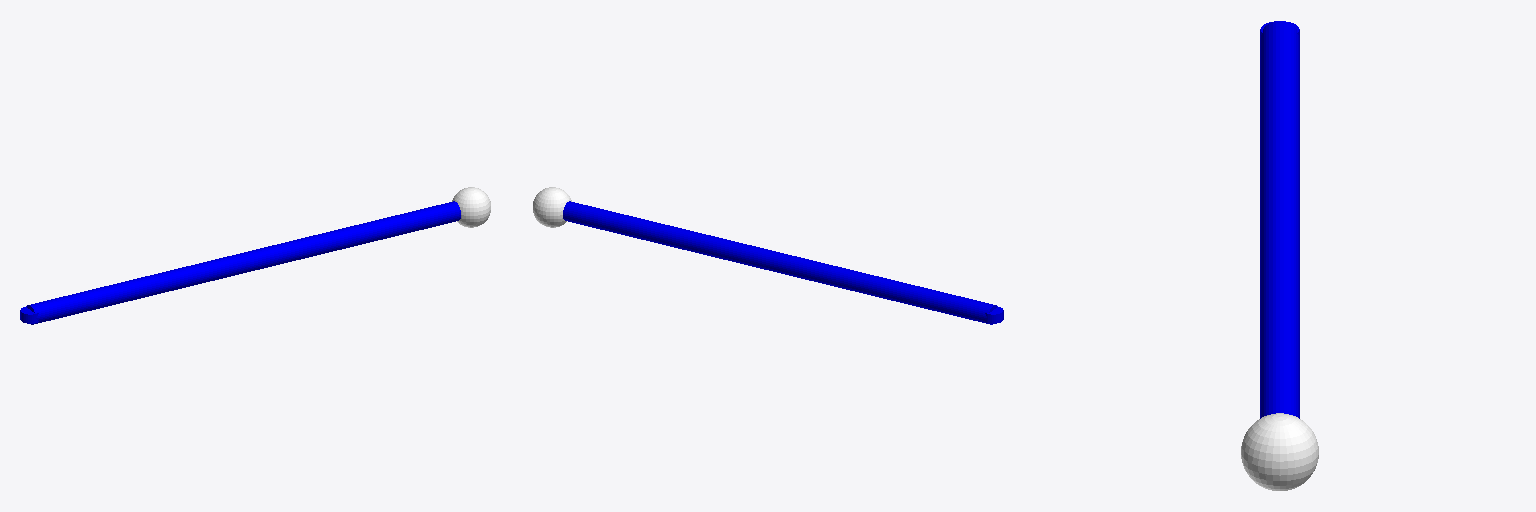
URDF robot description (planar_robot_2_link):
<?xml version="1.0" ?>
<robot name="planar_robot_2_link" version="1.0">
   <link name="world"/>
   <joint name="base_joint" type="fixed">
      <origin xyz="0.0 0.0 0.0" rpy="0.0 0.0 0.0"/>
      <parent link="world"/>
      <child link="base_link"/>
   </joint>
   <link name="base_link">
      <visual>
         <geometry>
            <cylinder radius="0.01" length="0.01"/>
         </geometry>
         <material name="blue">
            <color rgba="0.0 0.0 1.0 1.0"/>
         </material>
      </visual>
      <collision>
         <geometry>
            <cylinder radius="0.01" length="0.01"/>
         </geometry>
      </collision>
   </link>
   <joint name="joint_1" type="revolute">
      <origin xyz="0.0 0.0 0.0" rpy="0.0 0.0 0.0"/>
      <axis xyz="0.0 0.0 1.0"/>
      <parent link="base_link"/>
      <child link="link_1"/>
      <limit effort="320.0" lower="-2.97" upper="2.97" velocity="2.35619449019"/>
   </joint>
   <link name="link_1">
      <visual>
         <origin xyz="0.1 0.0 0.0" rpy="0.0 1.57079632679 0.0"/>
         <geometry>
            <cylinder radius="0.01" length="0.2"/>
         </geometry>
         <material name="blue">
            <color rgba="0.0 0.0 1.0 1.0"/>
         </material>
      </visual>
      <collision>
         <origin xyz="0.1 0.0 0.0" rpy="0.0 1.57079632679 0.0"/>
         <geometry>
            <cylinder radius="0.01" length="0.2"/>
         </geometry>
      </collision>
   </link>
   <joint name="joint_2" type="revolute">
      <origin xyz="0.2 0.0 0.0" rpy="0 0 0"/>
      <axis xyz="0.0 0.0 1.0"/>
      <parent link="link_1"/>
      <child link="link_2"/>
      <limit effort="320.0" lower="-2.6" upper="2.6" velocity="2.35619449019"/>
   </joint>
   <link name="link_2">
      <visual>
         <origin xyz="0.15 0.0 0.0" rpy="0.0 1.57079632679 0.0"/>
         <geometry>
            <cylinder radius="0.01" length="0.3"/>
         </geometry>
         <material name="blue">
            <color rgba="0.0 0.0 1.0 1.0"/>
         </material>
      </visual>
      <collision>
         <origin xyz="0.15 0.0 0.0" rpy="0.0 1.57079632679 0.0"/>
         <geometry>
            <cylinder radius="0.01" length="0.3"/>
         </geometry>
      </collision>
   </link>
   <joint name="joint_ee" type="fixed">
      <origin xyz="0.3 0.0 0.0" rpy="0 0 0"/>
      <axis xyz="1.0 0.0 0.0"/>
      <parent link="link_2"/>
      <child link="link_ee"/>
   </joint>
   <link name="link_ee">
      <visual>
         <origin xyz="0.0 0.0 0.0" rpy="0.0 0.0 0.0"/>
         <geometry>
            <sphere radius="0.02"/>
         </geometry>
         <material name="white">
            <color rgba="1.0 1.0 1.0 1.0"/>
         </material>
      </visual>
      <collision>
         <origin xyz="0.0 0.0 0.0" rpy="0.0 0.0 0.0"/>
         <geometry>
            <sphere radius="0.02"/>
         </geometry>
      </collision>
   </link>
   <joint name="joint_link_1_sphere_0" type="fixed">
      <origin xyz="0.0 0.0 0.0" rpy="0 0 0"/>
      <parent link="link_1"/>
      <child link="link_1_0"/>
   </joint>
   <link name="link_1_0">
      <origin xyz="0.0 0.0 0.0" rpy="0.0 0.0 0.0"/>
   </link>
   <joint name="joint_link_1_sphere_1" type="fixed">
      <origin xyz="0.04 0.0 0.0" rpy="0 0 0"/>
      <parent link="link_1"/>
      <child link="link_1_1"/>
   </joint>
   <link name="link_1_1">
      <origin xyz="0.0 0.0 0.0" rpy="0.0 0.0 0.0"/>
   </link>
   <joint name="joint_link_1_sphere_2" type="fixed">
      <origin xyz="0.08 0.0 0.0" rpy="0 0 0"/>
      <parent link="link_1"/>
      <child link="link_1_2"/>
   </joint>
   <link name="link_1_2">
      <origin xyz="0.0 0.0 0.0" rpy="0.0 0.0 0.0"/>
   </link>
   <joint name="joint_link_1_sphere_3" type="fixed">
      <origin xyz="0.12 0.0 0.0" rpy="0 0 0"/>
      <parent link="link_1"/>
      <child link="link_1_3"/>
   </joint>
   <link name="link_1_3">
      <origin xyz="0.0 0.0 0.0" rpy="0.0 0.0 0.0"/>
   </link>
   <joint name="joint_link_1_sphere_4" type="fixed">
      <origin xyz="0.16 0.0 0.0" rpy="0 0 0"/>
      <parent link="link_1"/>
      <child link="link_1_4"/>
   </joint>
   <link name="link_1_4">
      <origin xyz="0.0 0.0 0.0" rpy="0.0 0.0 0.0"/>
   </link>
   <joint name="joint_link_2_sphere_0" type="fixed">
      <origin xyz="0.0 0.0 0.0" rpy="0 0 0"/>
      <parent link="link_2"/>
      <child link="link_2_0"/>
   </joint>
   <link name="link_2_0">
      <origin xyz="0.0 0.0 0.0" rpy="0.0 0.0 0.0"/>
   </link>
   <joint name="joint_link_2_sphere_1" type="fixed">
      <origin xyz="0.05 0.0 0.0" rpy="0 0 0"/>
      <parent link="link_2"/>
      <child link="link_2_1"/>
   </joint>
   <link name="link_2_1">
      <origin xyz="0.0 0.0 0.0" rpy="0.0 0.0 0.0"/>
   </link>
   <joint name="joint_link_2_sphere_2" type="fixed">
      <origin xyz="0.1 0.0 0.0" rpy="0 0 0"/>
      <parent link="link_2"/>
      <child link="link_2_2"/>
   </joint>
   <link name="link_2_2">
      <origin xyz="0.0 0.0 0.0" rpy="0.0 0.0 0.0"/>
   </link>
   <joint name="joint_link_2_sphere_3" type="fixed">
      <origin xyz="0.15 0.0 0.0" rpy="0 0 0"/>
      <parent link="link_2"/>
      <child link="link_2_3"/>
   </joint>
   <link name="link_2_3">
      <origin xyz="0.0 0.0 0.0" rpy="0.0 0.0 0.0"/>
   </link>
   <joint name="joint_link_2_sphere_4" type="fixed">
      <origin xyz="0.2 0.0 0.0" rpy="0 0 0"/>
      <parent link="link_2"/>
      <child link="link_2_4"/>
   </joint>
   <link name="link_2_4">
      <origin xyz="0.0 0.0 0.0" rpy="0.0 0.0 0.0"/>
   </link>
   <joint name="joint_link_2_sphere_5" type="fixed">
      <origin xyz="0.25 0.0 0.0" rpy="0 0 0"/>
      <parent link="link_2"/>
      <child link="link_2_5"/>
   </joint>
   <link name="link_2_5">
      <origin xyz="0.0 0.0 0.0" rpy="0.0 0.0 0.0"/>
   </link>
   <joint name="joint_link_2_sphere_6" type="fixed">
      <origin xyz="0.3 0.0 0.0" rpy="0 0 0"/>
      <parent link="link_2"/>
      <child link="link_2_6"/>
   </joint>
   <link name="link_2_6">
      <origin xyz="0.0 0.0 0.0" rpy="0.0 0.0 0.0"/>
   </link>
</robot>

--- Facts derived from the render (not from the file) ---
3 views of the same robot in one strip: view 1: azimuth 30°, elevation 25°; view 2: azimuth 150°, elevation 25°; view 3: azimuth 270°, elevation 25° (orthographic).
Model planar_robot_2_link with 17 links and 16 joints (2 revolute, 14 fixed), rooted at world, posed every joint at zero.
Visible links, largest first — view 1: link_2, link_1, link_ee; view 2: link_2, link_1, link_ee; view 3: link_2, link_1, link_ee.
Boxes of the visible links, x1,y1,x2,y2 form: link_2: (206,201,460,280); link_1: (27,262,211,324); link_ee: (452,187,490,227); link_2: (563,201,817,280); link_1: (812,262,996,324); link_ee: (533,187,571,227); link_2: (1260,186,1299,418); link_1: (1260,21,1299,202); link_ee: (1241,413,1318,490).
Bounding box of the posed robot: 0.53 × 0.04 × 0.04 m (x, y, z).
Geometry: primitives only (box / cylinder / sphere), no mesh files.